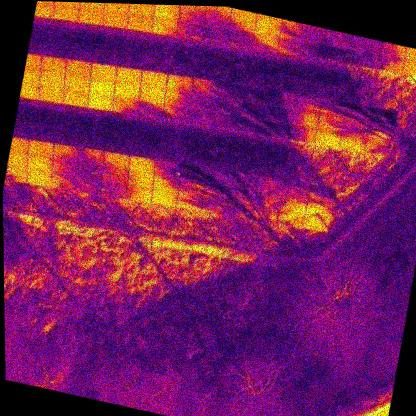Hotspot: (152, 158, 182, 179)
Normal: (113, 66, 144, 88), (149, 15, 178, 38), (63, 59, 93, 81), (61, 87, 91, 109), (137, 85, 168, 106), (127, 154, 156, 176), (101, 149, 130, 171), (100, 8, 129, 30), (87, 77, 117, 98), (37, 69, 67, 90), (149, 187, 179, 208), (88, 62, 118, 82), (77, 4, 104, 26), (254, 15, 282, 36), (27, 138, 55, 159), (25, 152, 53, 173), (126, 12, 154, 33), (52, 2, 80, 23), (38, 55, 67, 75), (113, 82, 142, 102), (36, 84, 65, 104), (140, 70, 168, 90), (63, 73, 91, 93), (313, 129, 341, 149), (124, 184, 152, 204), (86, 92, 114, 111), (126, 170, 154, 189), (24, 168, 52, 187), (339, 135, 366, 153), (152, 5, 180, 20), (128, 4, 156, 17), (103, 3, 131, 14), (401, 57, 416, 77), (77, 2, 106, 10), (53, 2, 81, 9), (404, 46, 416, 62)
Shadow: (135, 99, 166, 122), (225, 28, 253, 53), (200, 24, 228, 49), (202, 6, 231, 30), (369, 104, 398, 128), (303, 24, 333, 47), (190, 76, 220, 99), (110, 95, 140, 118), (255, 174, 285, 197), (229, 169, 259, 192), (375, 52, 405, 75), (318, 96, 348, 119), (340, 118, 369, 141), (253, 188, 282, 211), (301, 39, 330, 62), (250, 30, 279, 53), (74, 161, 104, 183), (278, 19, 306, 42), (228, 11, 256, 34), (264, 105, 293, 127), (239, 99, 268, 121), (188, 92, 217, 114), (163, 87, 192, 109), (363, 136, 392, 158), (281, 179, 310, 201), (202, 181, 231, 203), (302, 212, 331, 234), (343, 101, 372, 123), (215, 96, 243, 118), (161, 104, 189, 126), (305, 198, 333, 220), (175, 20, 203, 42), (267, 88, 295, 110), (328, 31, 357, 52), (179, 162, 208, 183), (279, 194, 308, 215), (251, 204, 280, 225), (150, 173, 180, 193), (165, 73, 193, 94), (316, 114, 344, 135), (308, 183, 336, 204), (205, 166, 233, 187), (76, 146, 104, 167), (52, 142, 80, 163), (276, 37, 304, 58), (186, 108, 215, 128), (327, 44, 354, 65), (291, 109, 319, 129), (261, 120, 289, 140), (178, 5, 206, 25), (228, 186, 256, 206), (101, 166, 129, 186), (200, 196, 228, 216), (293, 94, 322, 113), (218, 82, 245, 102), (367, 122, 394, 142), (213, 112, 240, 132), (178, 178, 205, 198), (51, 157, 78, 177), (277, 209, 304, 229), (100, 180, 127, 200), (50, 171, 77, 191), (352, 49, 379, 69), (354, 35, 381, 55), (74, 176, 102, 195), (378, 41, 407, 59), (289, 125, 316, 144), (242, 84, 269, 103), (175, 193, 203, 211), (238, 116, 264, 135)
